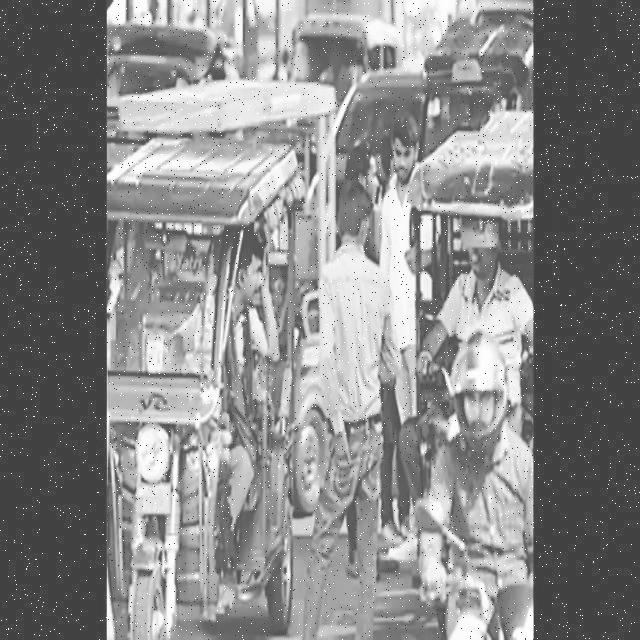Toto: (106, 133, 302, 640), (413, 108, 549, 336)
